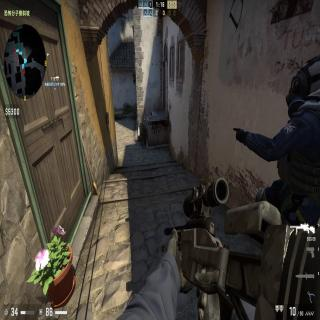CT-Head: (284, 58, 318, 117)
